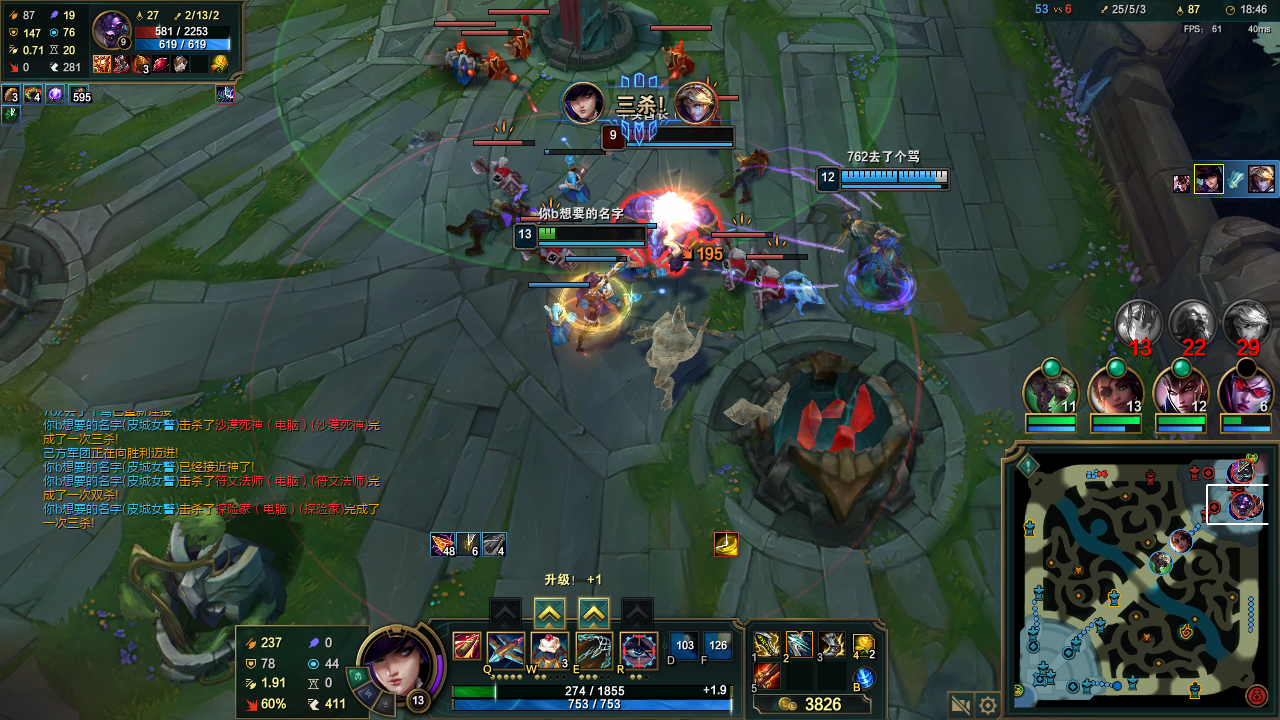DFXB: (752, 262, 785, 307), (721, 246, 756, 287), (486, 161, 525, 197), (471, 54, 510, 85), (657, 41, 694, 71), (536, 249, 573, 266), (444, 37, 469, 60), (507, 34, 535, 54)
DFYX: (601, 133, 730, 146)
KF: (790, 633, 805, 644)
Shenji: (583, 601, 603, 622), (540, 604, 558, 621)
WFXB: (545, 305, 574, 341), (557, 174, 589, 204)
